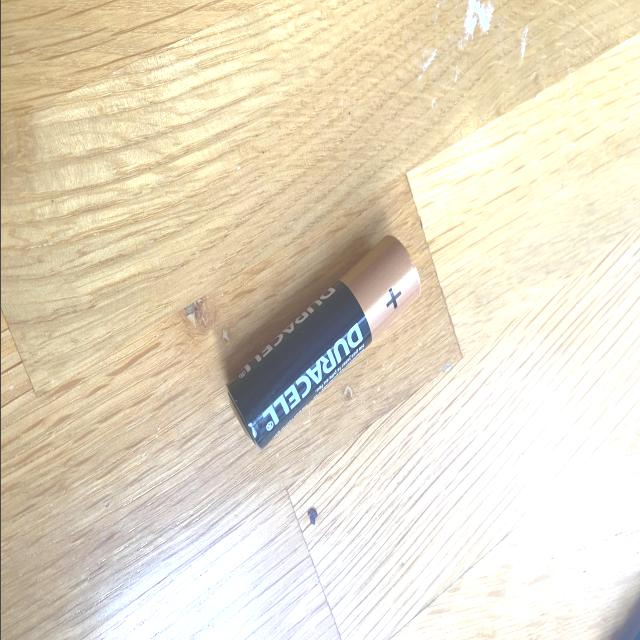AA: (224, 233, 422, 451)
